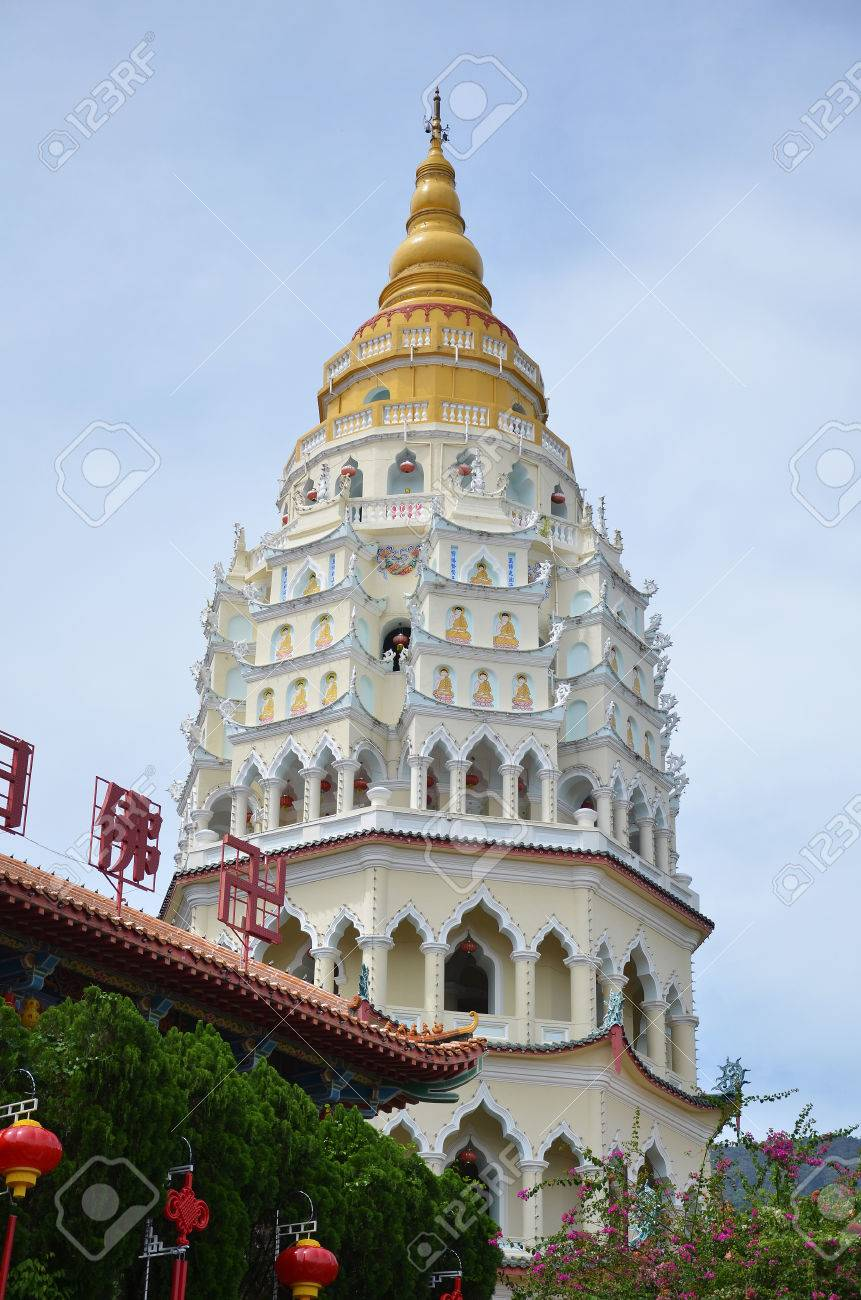Buddhist Temple: (131, 67, 720, 1026)
